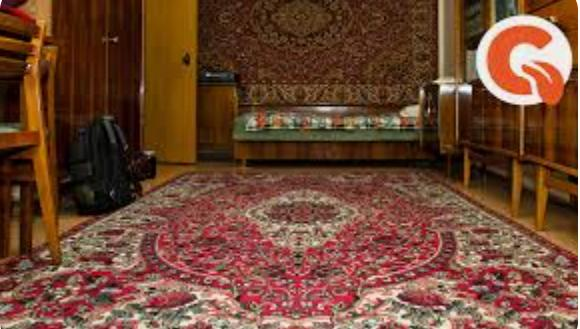carpet: (0, 170, 578, 329)
